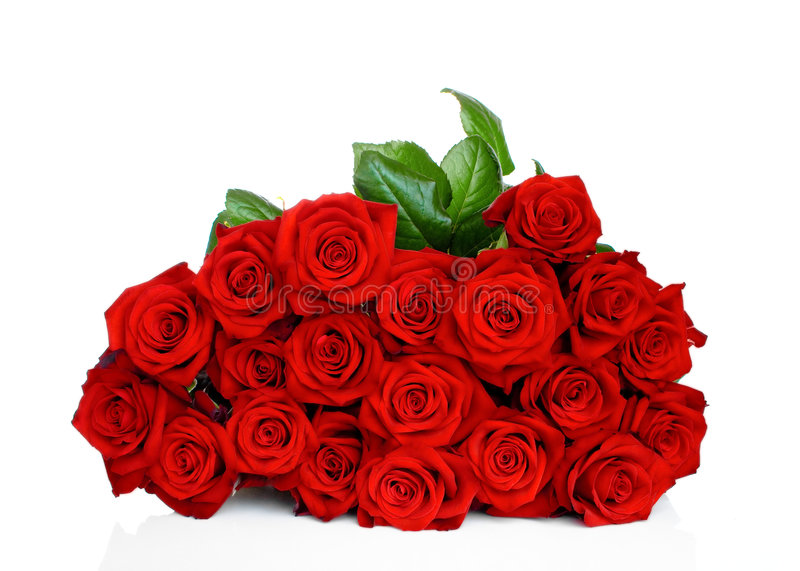RedRose: (450, 256, 564, 377), (367, 349, 483, 446), (498, 169, 612, 249)
